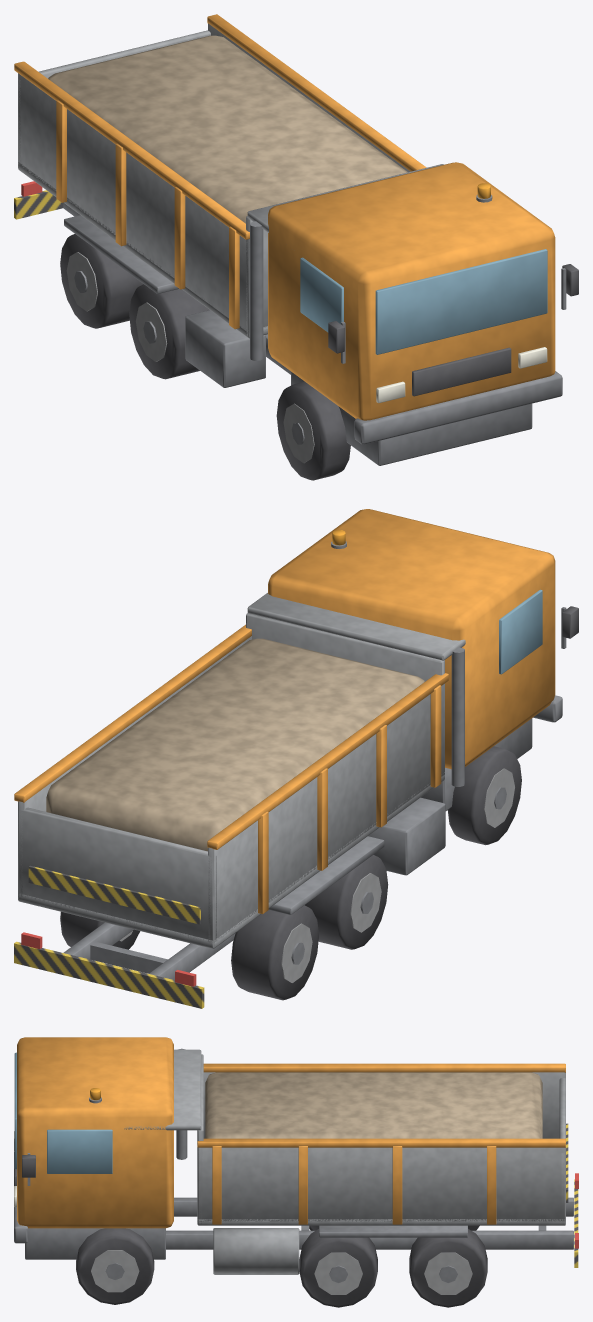
The model's file is Works_DumpTruck.fbx.
3 renders of one model, top to bottom at view 1: azimuth 30°, elevation 25°; view 2: azimuth 150°, elevation 25°; view 3: azimuth 270°, elevation 25°, orthographic. The views are drawn at different scales.
Visible parts, largest first — view 1: Body, Bed, Wheel_1, Wheel_5, Wheel_3; view 2: Bed, Body, Wheel_5, Wheel_1, Wheel_3, Wheel_4; view 3: Bed, Body, Wheel_0, Wheel_4, Wheel_2.
Part boxes in pixels (x1,y1,x2,y2): Body: (14,162,578,465); Bed: (14,14,443,338); Wheel_1: (276,381,350,480); Wheel_5: (60,234,143,328); Wheel_3: (129,284,209,379); Bed: (14,593,465,948); Body: (14,509,578,1008); Wheel_5: (231,905,318,1000); Wheel_1: (447,746,521,845); Wheel_3: (305,855,388,949); Wheel_4: (60,912,140,949); Bed: (124,1049,568,1225); Body: (14,1037,578,1274); Wheel_0: (76,1228,154,1304); Wheel_4: (409,1229,487,1307); Wheel_2: (299,1229,377,1307).
Size of the model in its own units: 2.84 by 2.9 by 7.21.
1 material, 1 textured.
